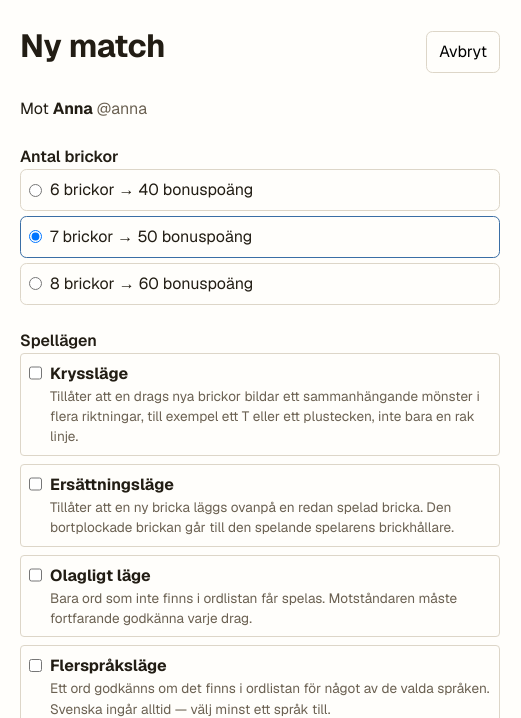
Test: NewMatchScreen › refuses a multi-language mode with no second language
Click the checkbox labelled "Flerspråksläge": (36, 666) [29,657,42,674]
(page scrolled)
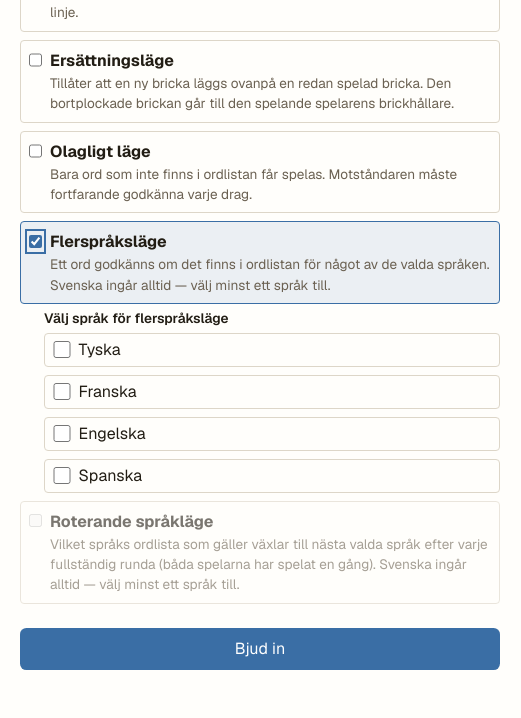
Click the button "Bjud in": (260, 649) [20,628,500,670]
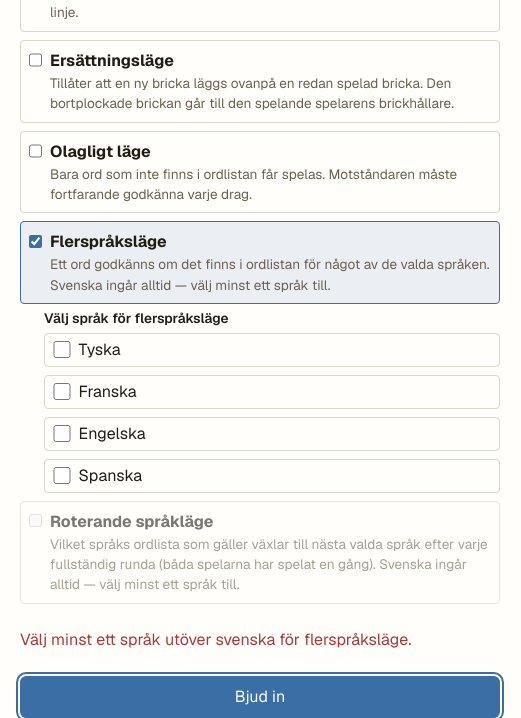
Expected: the message reads "Välj minst ett språk utöver svenska för flerspråksläge.", [20,629,411,650]
